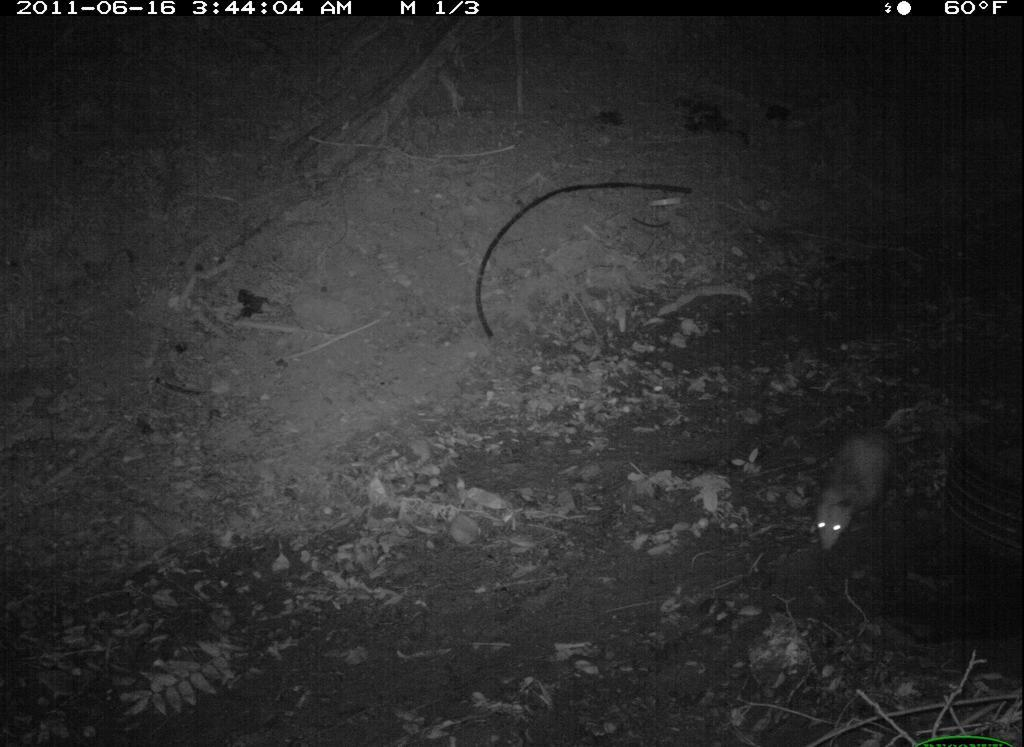opossum: (804, 401, 918, 561)
